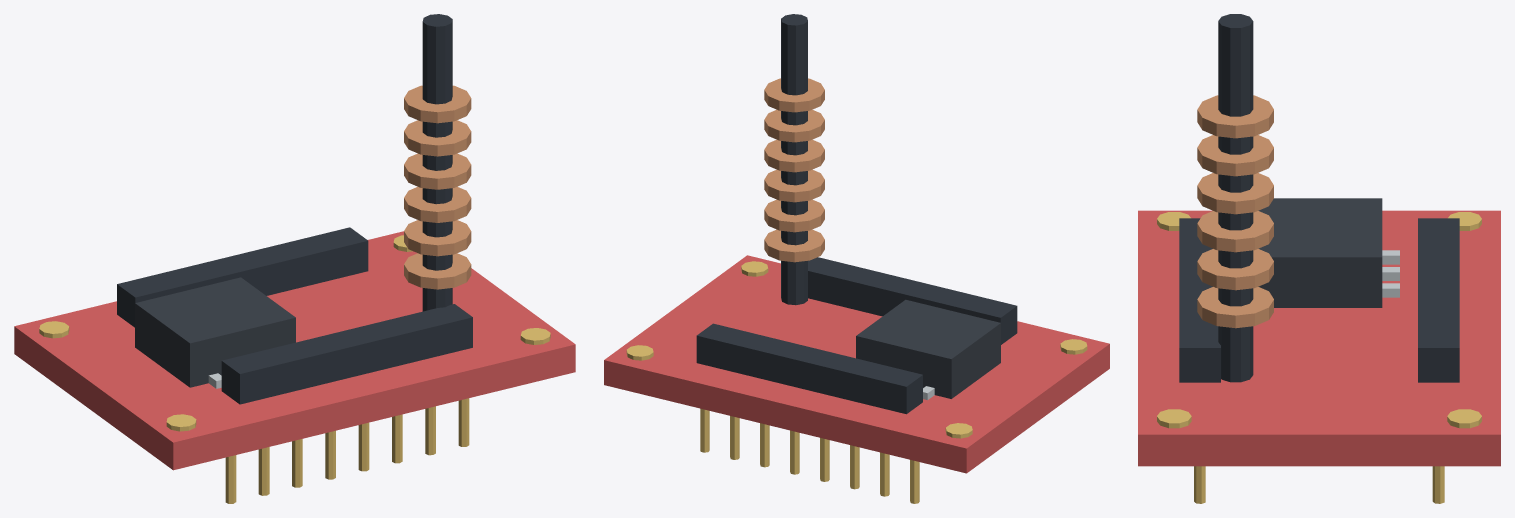
Rendered from product-12.glb.
The picture shows the model from 3 angles, left to right: view 1: azimuth 30°, elevation 25°; view 2: azimuth 150°, elevation 25°; view 3: azimuth 270°, elevation 25°; orthographic projection. The views are drawn at different scales.
Parts seen in each view (by area): view 1: product-12; view 2: product-12; view 3: product-12.
Part boxes in pixels (bbox=[...]): product-12: bbox=[14, 14, 575, 503]; product-12: bbox=[604, 14, 1109, 503]; product-12: bbox=[1138, 14, 1500, 503].
Size of the model in its own units: 0.76 by 0.75 by 0.52.
